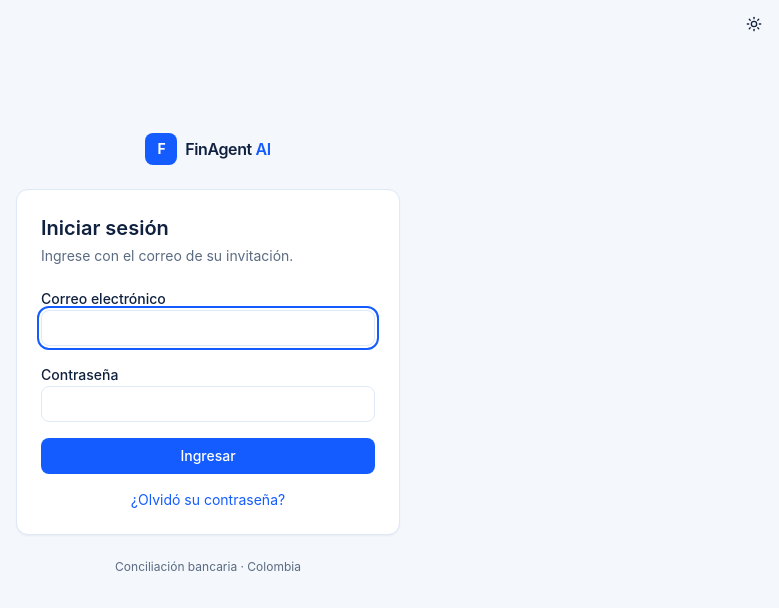
Test: login › valida en español, inicia sesión y vuelve a la página pedida
Later steps or results of the test are not shown.
Click the button "Ingresar" at (208, 456), box [41,438,375,474]
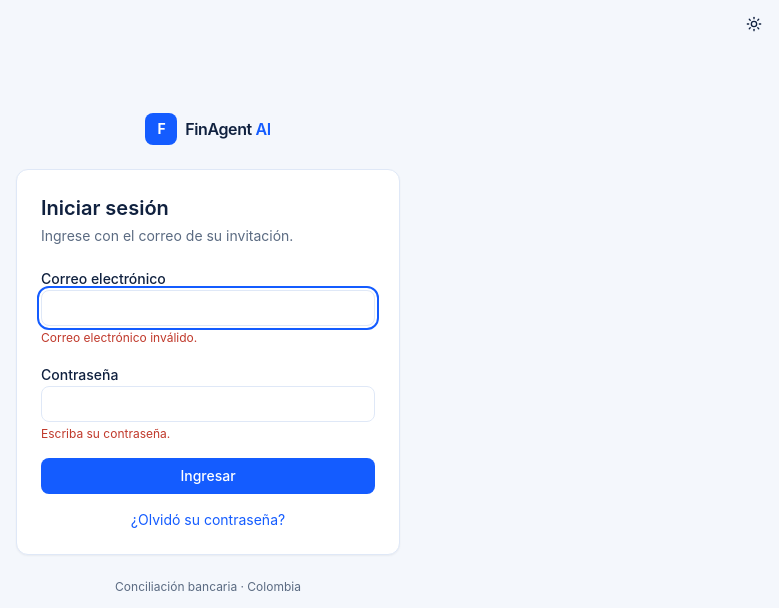
Check: the text "Correo electrónico inválido." is shown, box [41,330,197,345]
